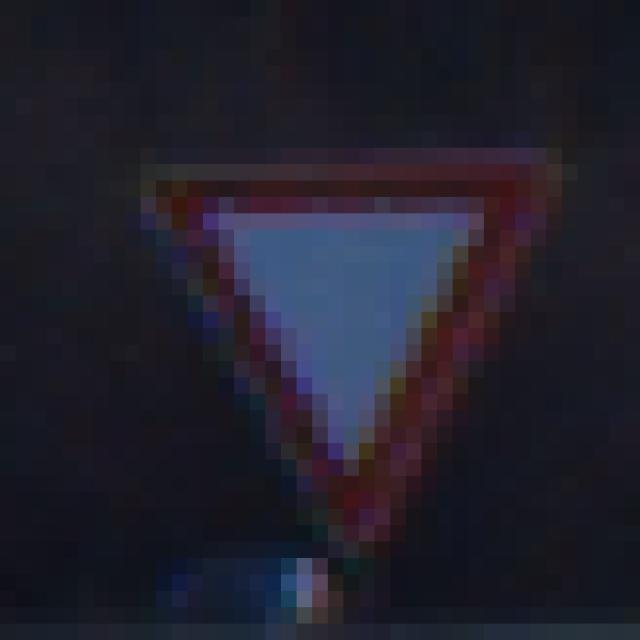Give Way: (95, 99, 563, 559)
